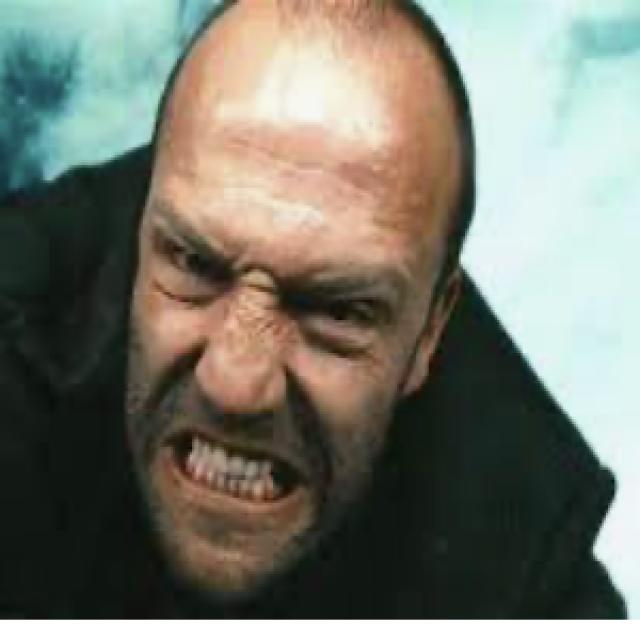angry: (68, 39, 426, 584)
